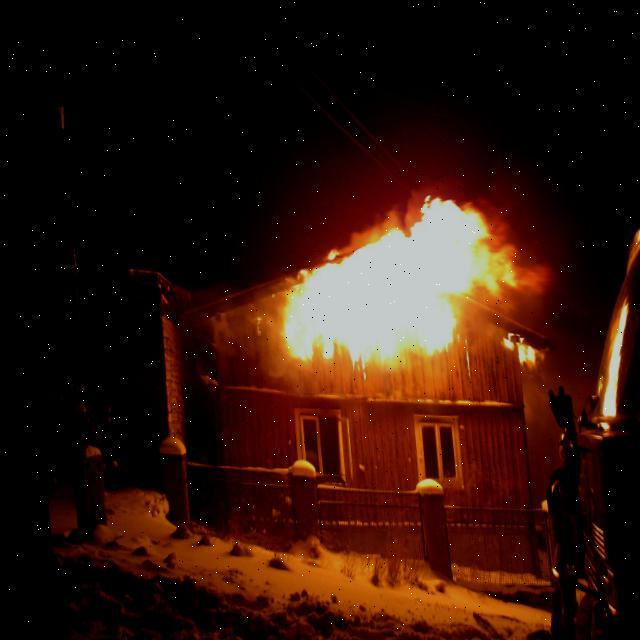Fire: (266, 171, 528, 362)
